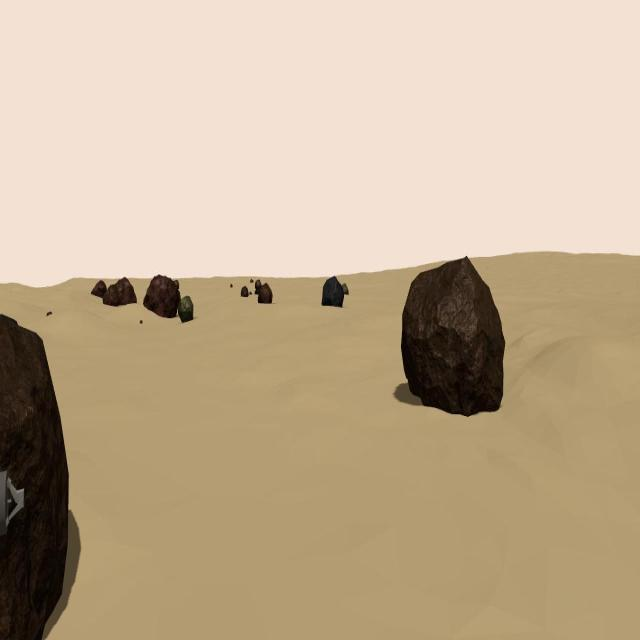rock: (1, 315, 68, 640), (402, 255, 505, 418), (144, 274, 180, 318), (322, 275, 344, 309), (116, 277, 137, 305), (178, 296, 194, 322), (102, 284, 119, 305), (259, 282, 272, 304), (92, 278, 106, 298), (254, 279, 261, 294), (341, 283, 349, 294), (242, 286, 248, 296), (140, 320, 144, 327), (45, 312, 52, 316), (248, 291, 252, 295), (230, 283, 233, 288), (250, 279, 253, 283)
